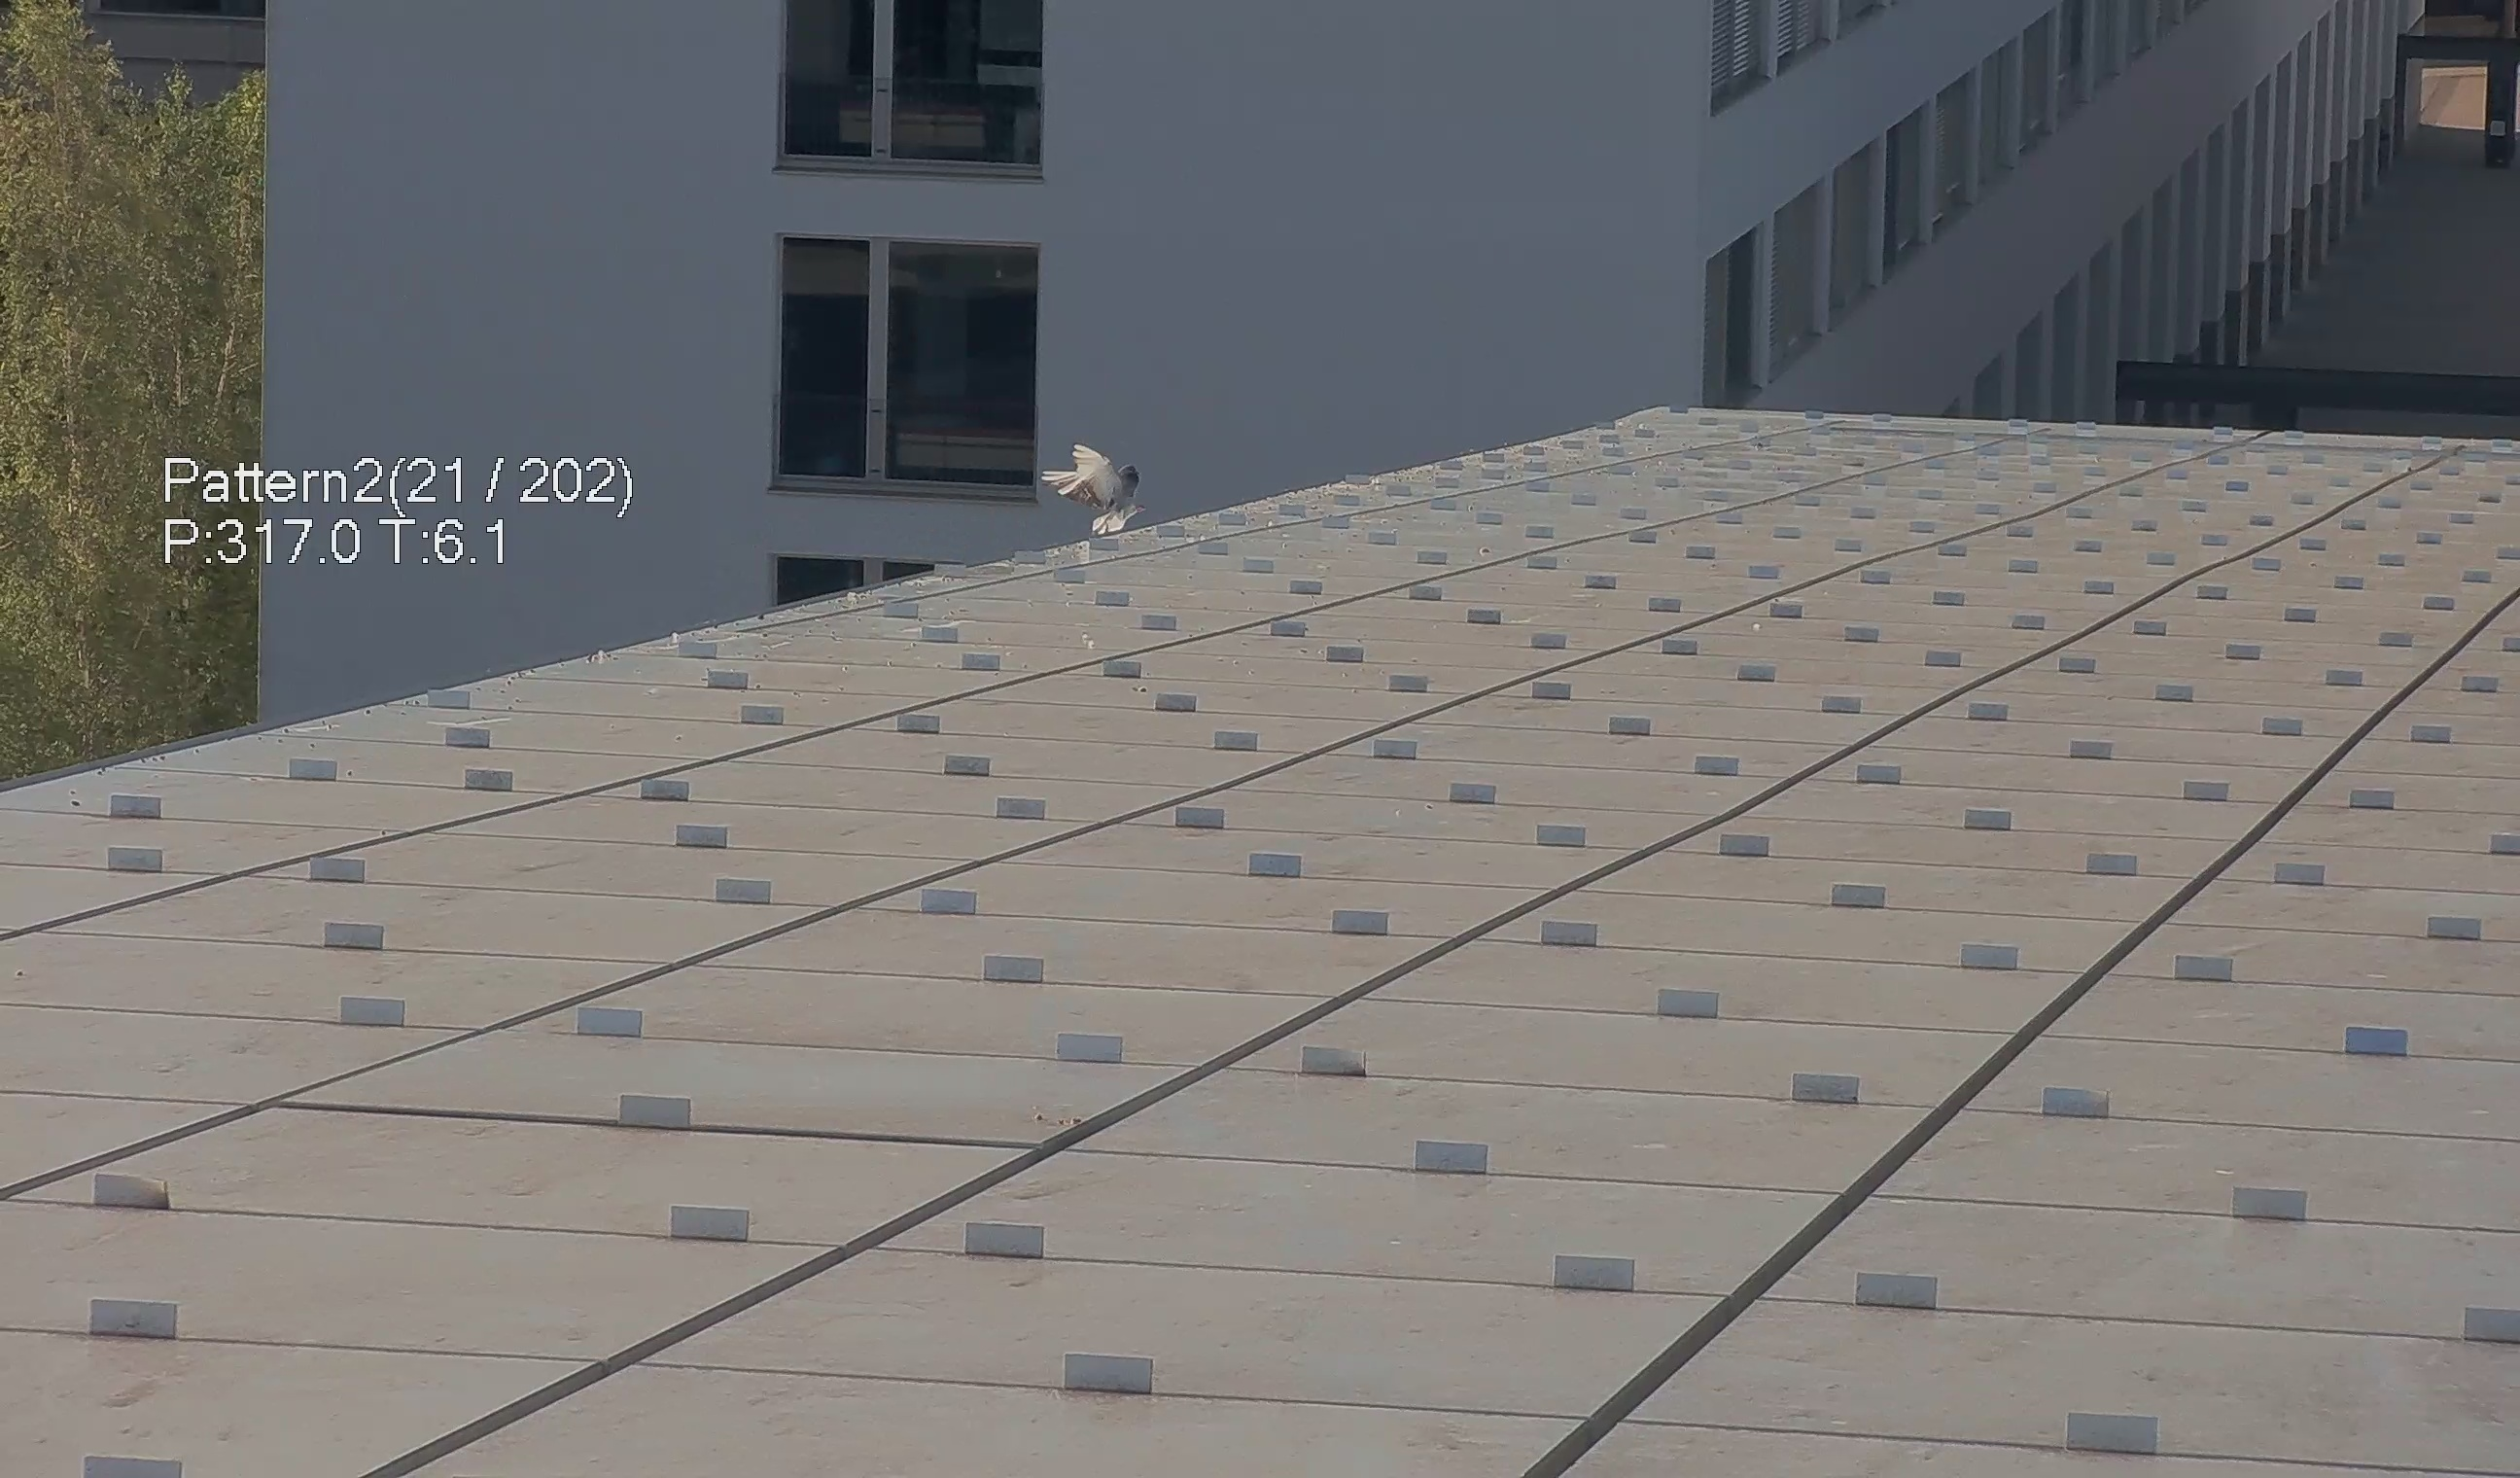Pigeon: (1038, 428, 1154, 533)
